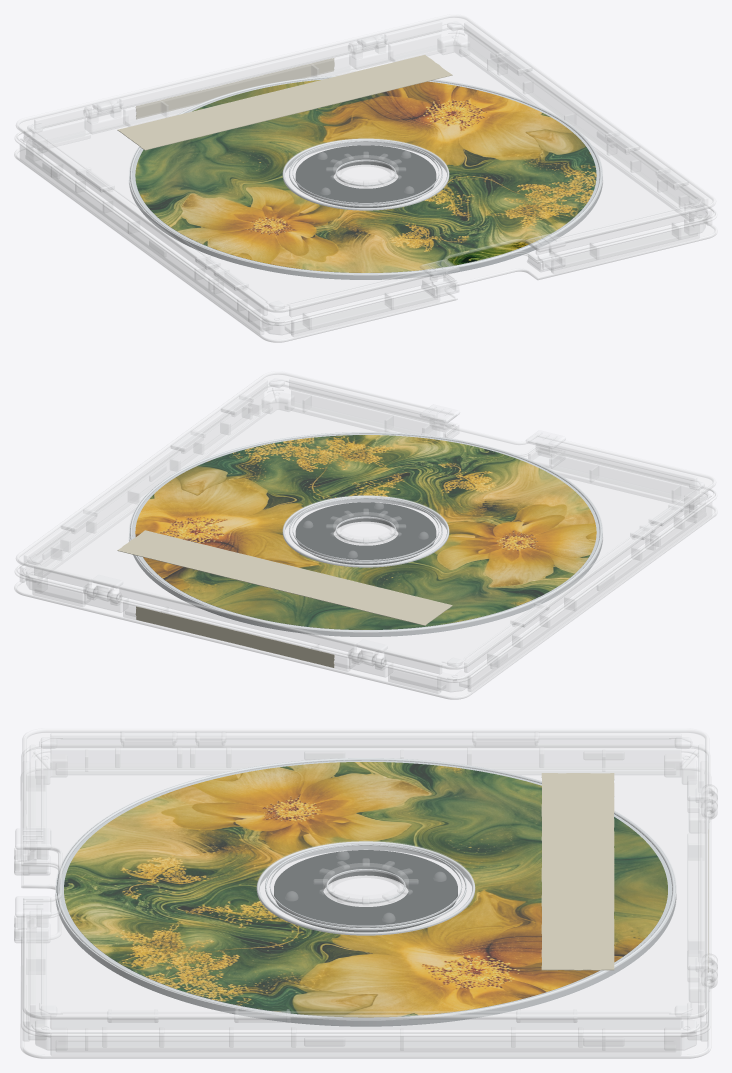
Rendered from floral-cd-case.glb.
The picture shows the model from 3 angles, top to bottom: view 1: azimuth 30°, elevation 25°; view 2: azimuth 150°, elevation 25°; view 3: azimuth 270°, elevation 25°; orthographic projection. The views are drawn at different scales.
Visible parts, largest first — view 1: Shell_Lid_Notched_Front_Panel, Printed floral face, Shell_Base_Notched_Back_Panel, Cover_Tape, Inner clear unprinted band, Inner hub recess, Shell_Lid_Outer_Rolled_Edge, Top_Base_Outer_Wall, Disc silver substrate, Right_Base_Segmented_Wall.001, Right_Lid_Segmented_Downstand.001, Left_Upper_Base_Outer_Wall (+27 smaller); view 2: Shell_Lid_Notched_Front_Panel, Printed floral face, Shell_Base_Notched_Back_Panel, Cover_Tape, Inner clear unprinted band, Inner hub recess, Shell_Lid_Outer_Rolled_Edge, Top_Base_Outer_Wall, Disc silver substrate, Spine_Tape, Rounded disc rim, Shell_Base_Outer_Rolled_Edge (+22 smaller); view 3: Shell_Lid_Notched_Front_Panel, Printed floral face, Shell_Base_Notched_Back_Panel, Bottom_Base_Outer_Wall, Cover_Tape, Inner clear unprinted band, Inner hub recess, Shell_Lid_Outer_Rolled_Edge, Top_Base_Outer_Wall, Disc silver substrate, Bottom_Lid_Downstand, Top_Lid_Downstand (+29 smaller).
Part boxes in pixels (<box>): Shell_Lid_Notched_Front_Panel: <box>18,15,713,311</box>; Printed floral face: <box>135,80,596,272</box>; Shell_Base_Notched_Back_Panel: <box>16,52,715,341</box>; Cover_Tape: <box>117,55,452,150</box>; Inner clear unprinted band: <box>283,138,448,208</box>; Inner hub recess: <box>295,145,436,207</box>; Shell_Lid_Outer_Rolled_Edge: <box>16,14,715,312</box>; Top_Base_Outer_Wall: <box>20,143,263,334</box>; Disc silver substrate: <box>129,78,602,279</box>; Right_Base_Segmented_Wall.001: <box>123,54,349,120</box>; Right_Lid_Segmented_Downstand.001: <box>120,41,356,108</box>; Left_Upper_Base_Outer_Wall: <box>291,285,439,336</box>; Shell_Lid_Notched_Front_Panel: <box>18,372,713,668</box>; Printed floral face: <box>135,435,596,629</box>; Shell_Base_Notched_Back_Panel: <box>16,409,715,698</box>; Cover_Tape: <box>117,530,452,625</box>; Inner clear unprinted band: <box>283,495,448,565</box>; Inner hub recess: <box>295,502,436,564</box>; Shell_Lid_Outer_Rolled_Edge: <box>16,371,715,669</box>; Top_Base_Outer_Wall: <box>468,500,711,691</box>; Disc silver substrate: <box>129,434,602,636</box>; Spine_Tape: <box>135,606,334,667</box>; Rounded disc rim: <box>130,432,601,631</box>; Shell_Base_Outer_Rolled_Edge: <box>14,504,717,699</box>; Shell_Lid_Notched_Front_Panel: <box>25,730,706,1017</box>; Printed floral face: <box>64,762,667,1017</box>; Shell_Base_Notched_Back_Panel: <box>23,769,708,1057</box>; Bottom_Base_Outer_Wall: <box>50,1033,681,1055</box>; Cover_Tape: <box>541,773,614,970</box>; Inner clear unprinted band: <box>257,841,474,933</box>; Inner hub recess: <box>274,850,457,932</box>; Shell_Lid_Outer_Rolled_Edge: <box>22,728,709,1019</box>; Top_Base_Outer_Wall: <box>51,748,680,763</box>; Disc silver substrate: <box>55,760,676,1026</box>; Bottom_Lid_Downstand: <box>50,1018,681,1029</box>; Top_Lid_Downstand: <box>51,733,680,747</box>.
Size of the model in its own units: 0.1328 by 0.00974 by 0.1361.
11 materials, 1 textured.
